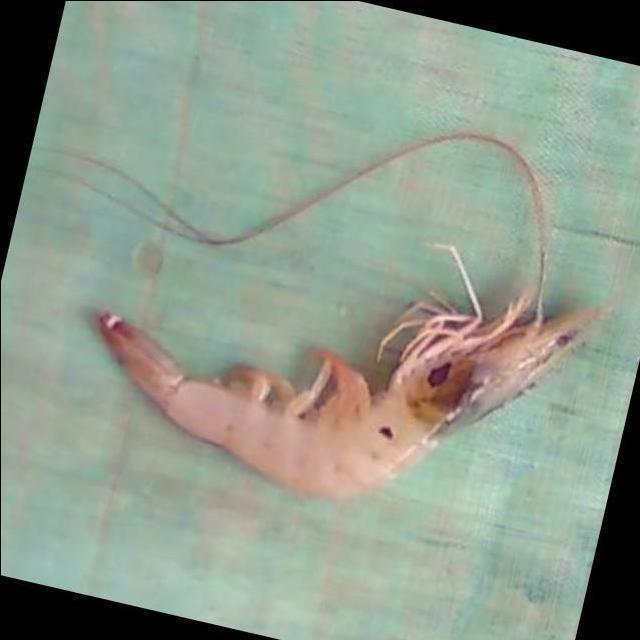shrimp: (95, 246, 604, 496)
